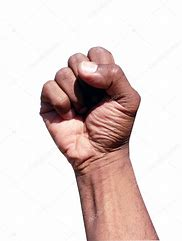closed: (38, 46, 141, 166)
